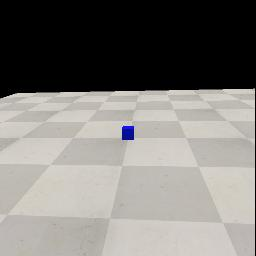box: (122, 126, 134, 140)
